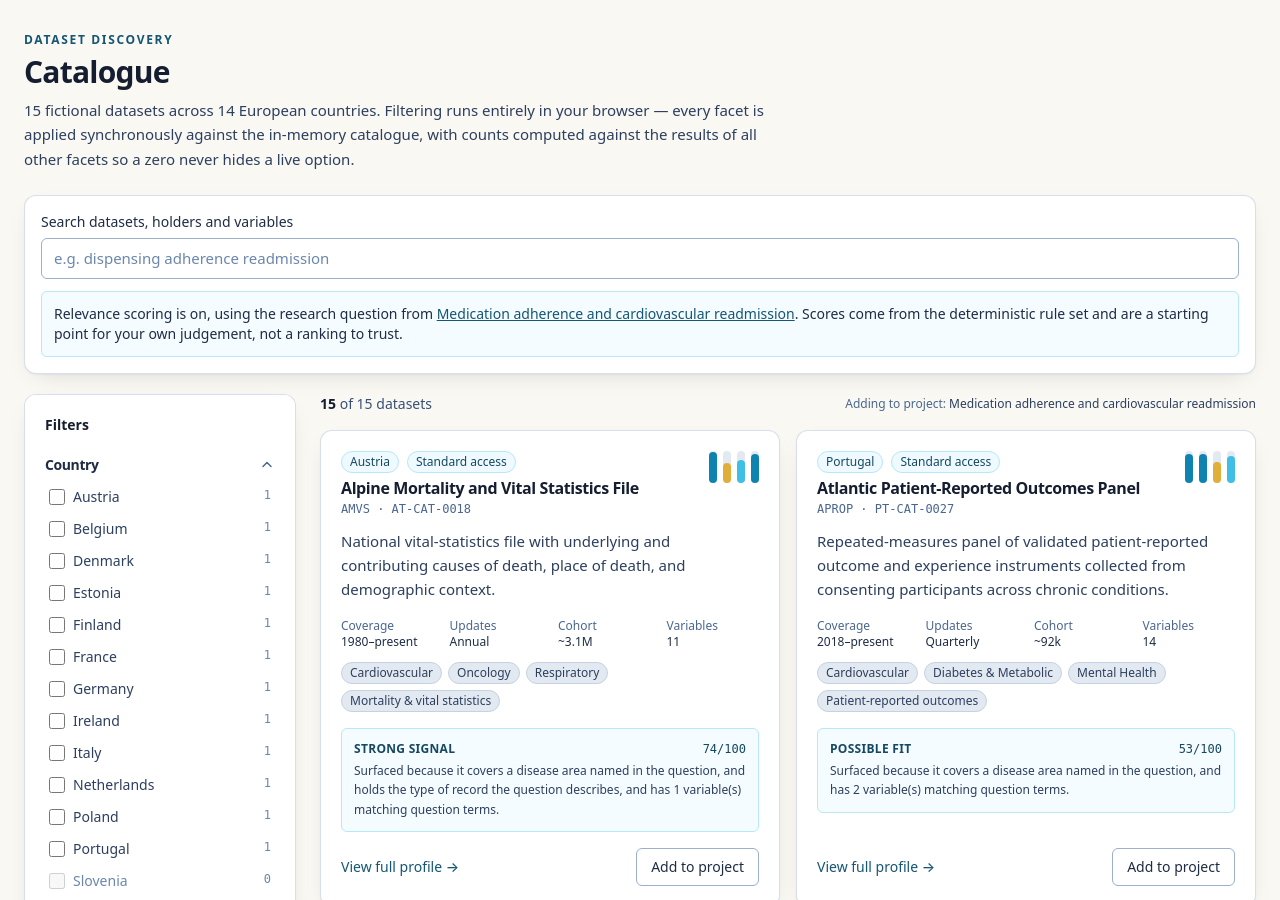
it: catalogue discovery › adds a dataset to the active project and reflects it in the button
The width and height of the screenshot is (1280, 900).
Type "Rhein-Ruhr" into the search field labelled "Search datasets, holders and variables".
click(640, 258); type("Rhein-Ruhr")  # box [41, 238, 1239, 279]
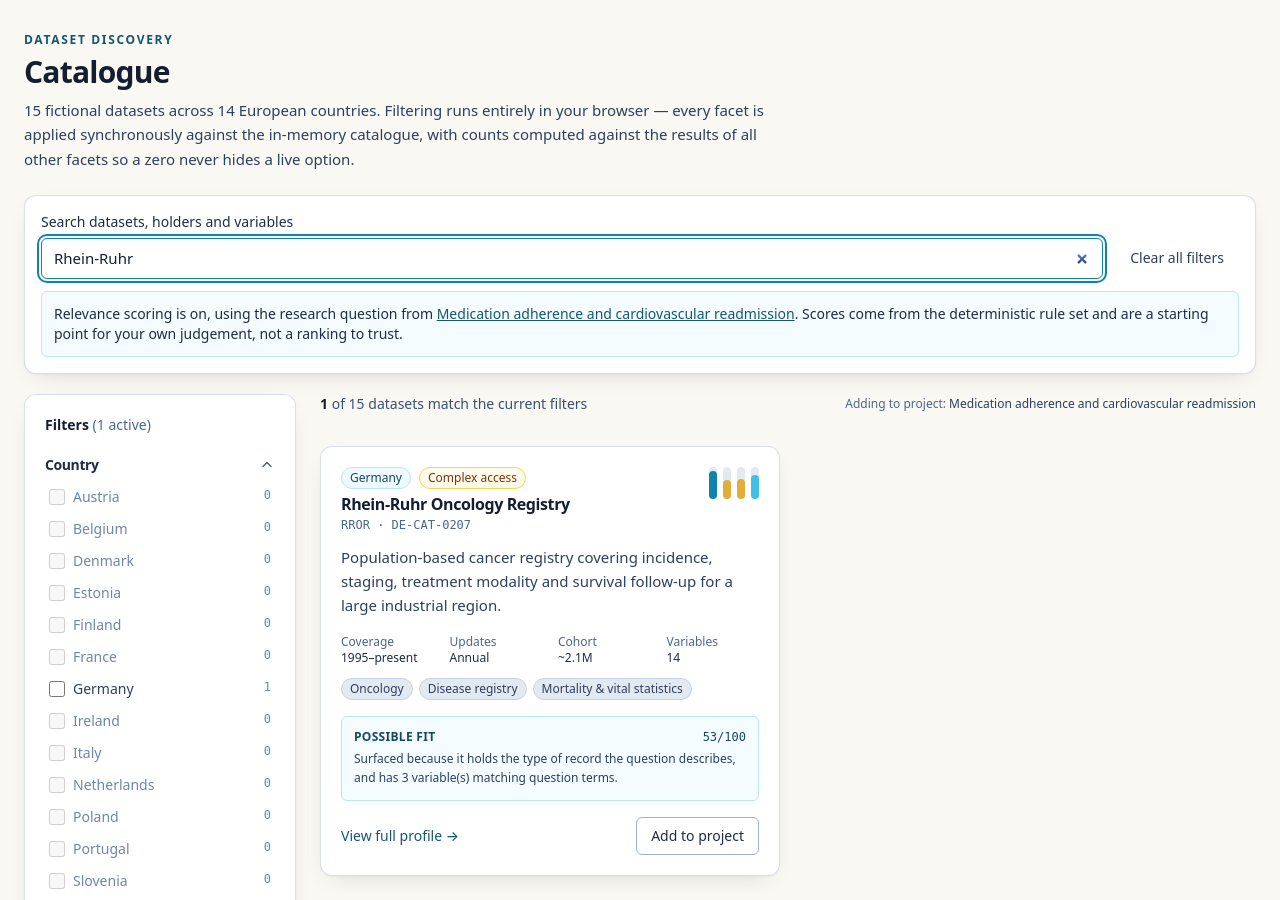
Click the button "Add to project".
click(698, 836)  # box [636, 817, 759, 855]
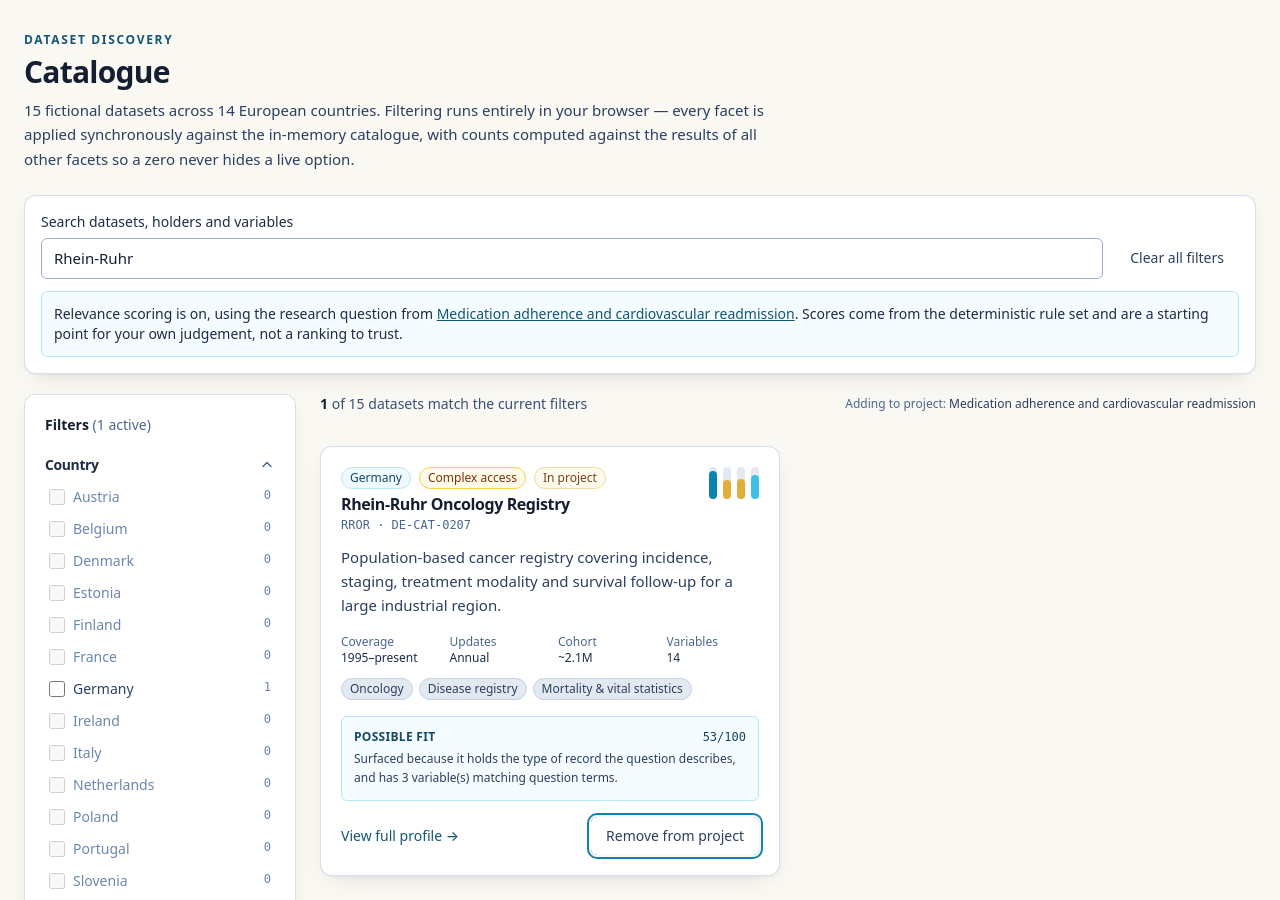
Now the button "Remove from project" is shown, box [591, 817, 759, 855]
Now the text "In project" is shown, box [534, 467, 606, 489]
